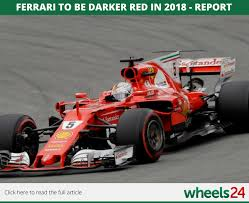FormulaOneCar: (1, 47, 248, 171)
